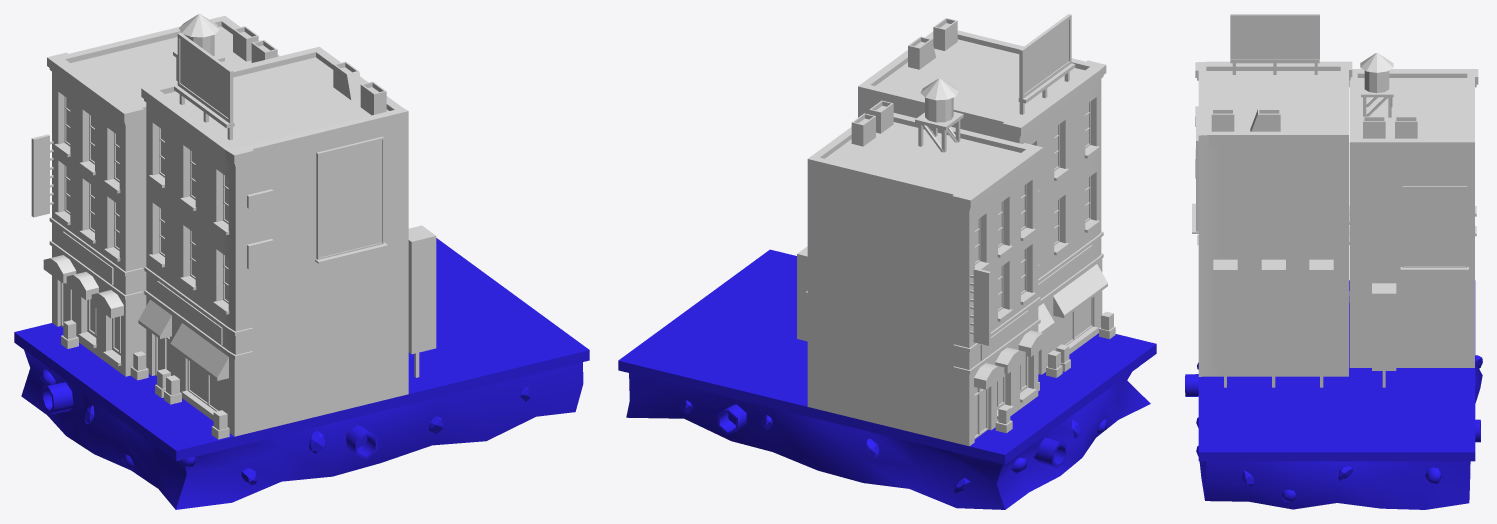
File: Boutique Island.FBX
3 views of the same model, side by side, from view 1: azimuth 30°, elevation 25°; view 2: azimuth 150°, elevation 25°; view 3: azimuth 270°, elevation 25° (orthographic). The views are drawn at different scales.
Parts seen in each view (by area): view 1: Box001, Box002; view 2: Box001, Box002; view 3: Box001, Box002.
Boxes of the visible parts, <box> form: Box001: <box>31,14,436,439</box>; Box002: <box>14,238,589,509</box>; Box001: <box>797,14,1115,446</box>; Box002: <box>618,249,1156,509</box>; Box001: <box>1192,14,1478,387</box>; Box002: <box>1185,280,1482,509</box>.
Size of the model in its own units: 103 by 96.77 by 72.08.
